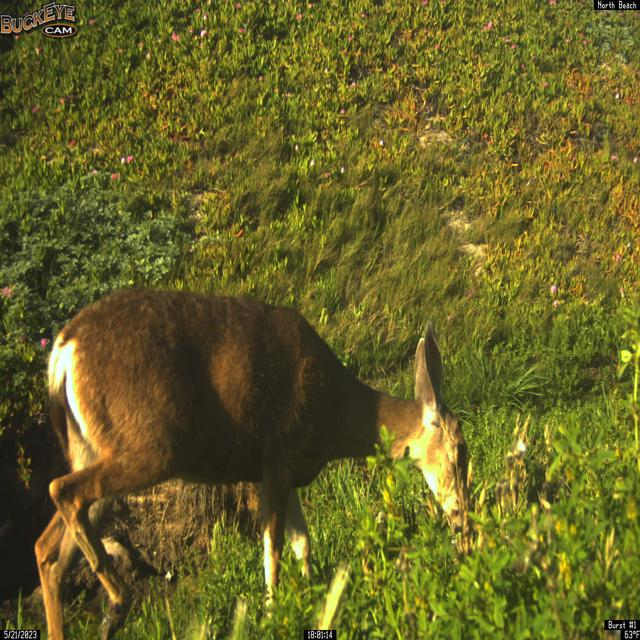deer: (33, 286, 474, 640)
